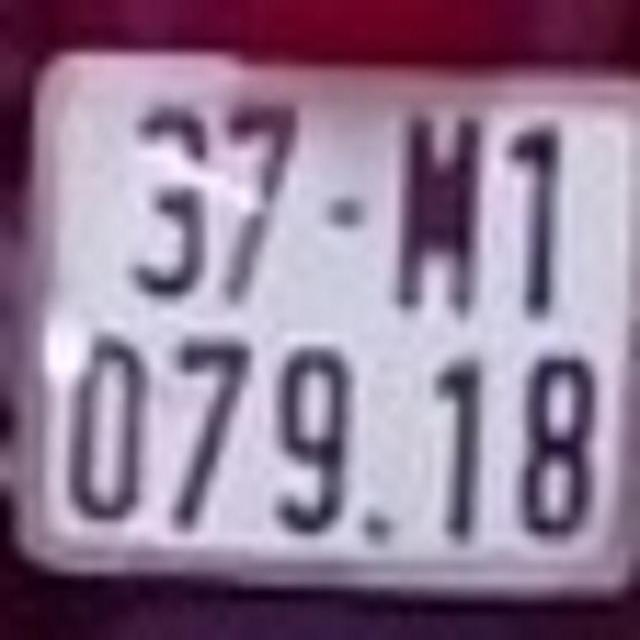0: (68, 328, 144, 522)
1: (500, 108, 566, 326), (421, 354, 488, 546)
3: (124, 102, 208, 304)
7: (150, 322, 247, 540), (214, 99, 301, 311)
8: (523, 348, 594, 548)
9: (265, 330, 353, 541)
H: (383, 92, 492, 326)
